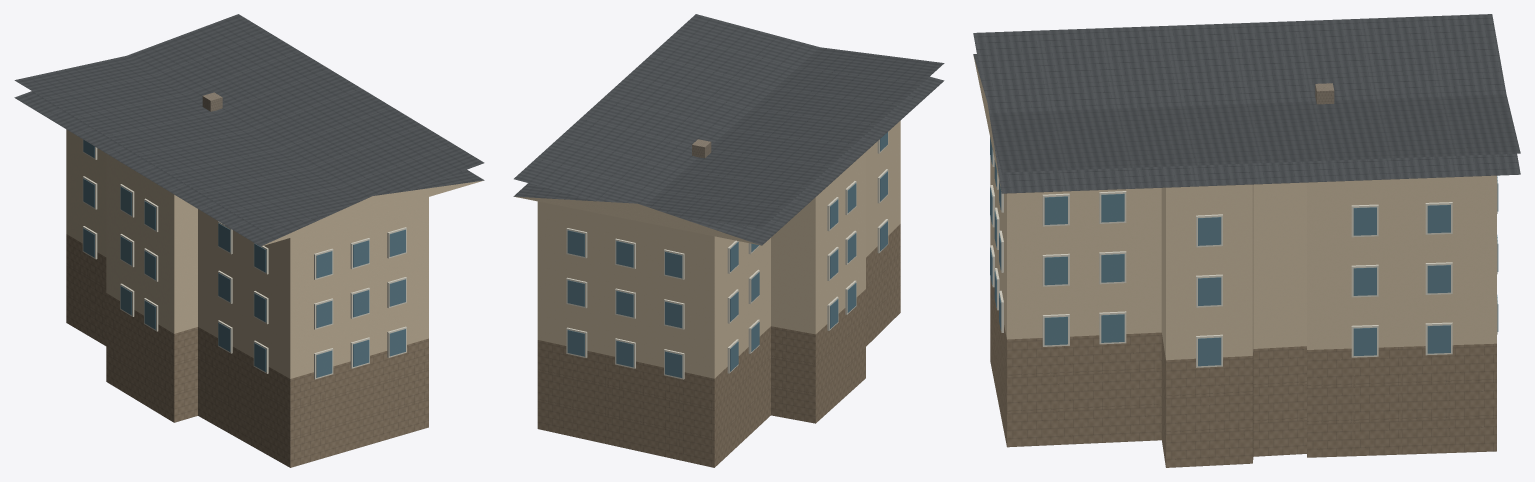
Rendered from core_0037.gltf.
3 views of the same model, side by side, from view 1: azimuth 30°, elevation 25°; view 2: azimuth 150°, elevation 25°; view 3: azimuth 270°, elevation 25° (orthographic). The views are drawn at different scales.
Visible parts, largest first — view 1: core_0037; view 2: core_0037; view 3: core_0037.
Part boxes in pixels (box(x1,y1,x2,y2)): core_0037: box(14, 14, 484, 467); core_0037: box(513, 14, 944, 467); core_0037: box(973, 14, 1520, 467).
Bounding box in the file's own units: 16.1 × 14.65 × 23.49.
6 materials, 6 textured.
